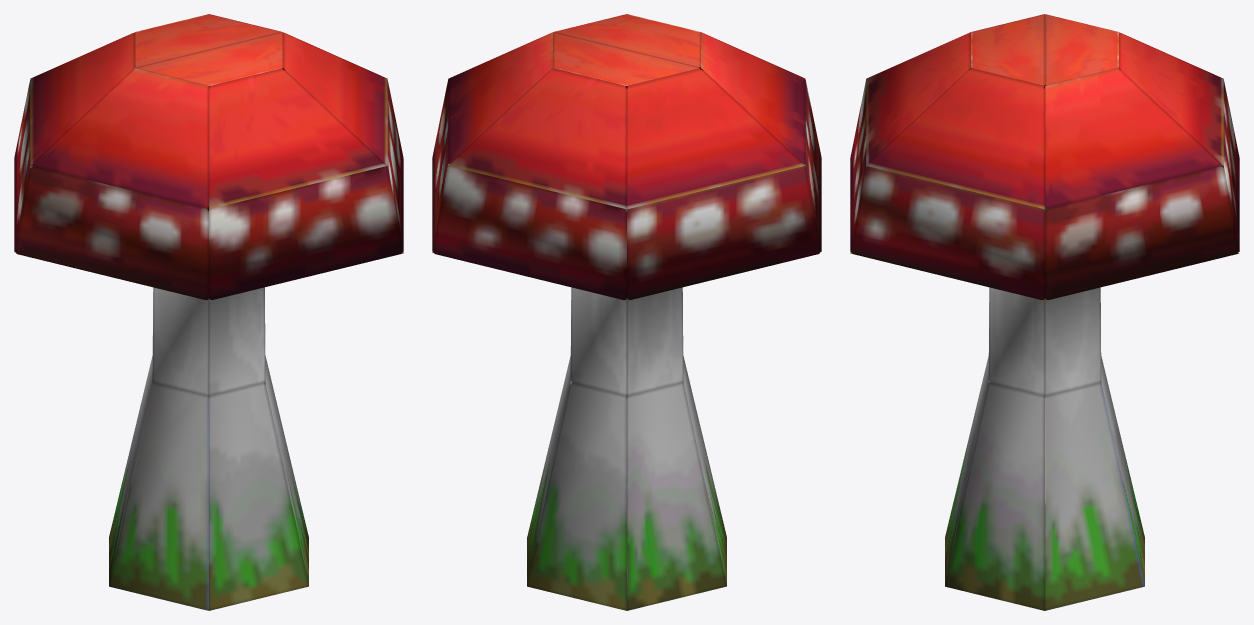
The picture shows the model from 3 angles, left to right: view 1: azimuth 30°, elevation 25°; view 2: azimuth 150°, elevation 25°; view 3: azimuth 270°, elevation 25°; orthographic projection.
Visible parts, largest first — view 1: T1L9M005_4; view 2: T1L9M005_4; view 3: T1L9M005_4.
Part boxes in pixels (box(x1,y1,x2,y2)): T1L9M005_4: box(14, 14, 403, 610); T1L9M005_4: box(432, 14, 821, 610); T1L9M005_4: box(850, 14, 1239, 610).
Size of the model in its own units: 1.34 by 1.68 by 1.16.
1 material, 1 textured.
